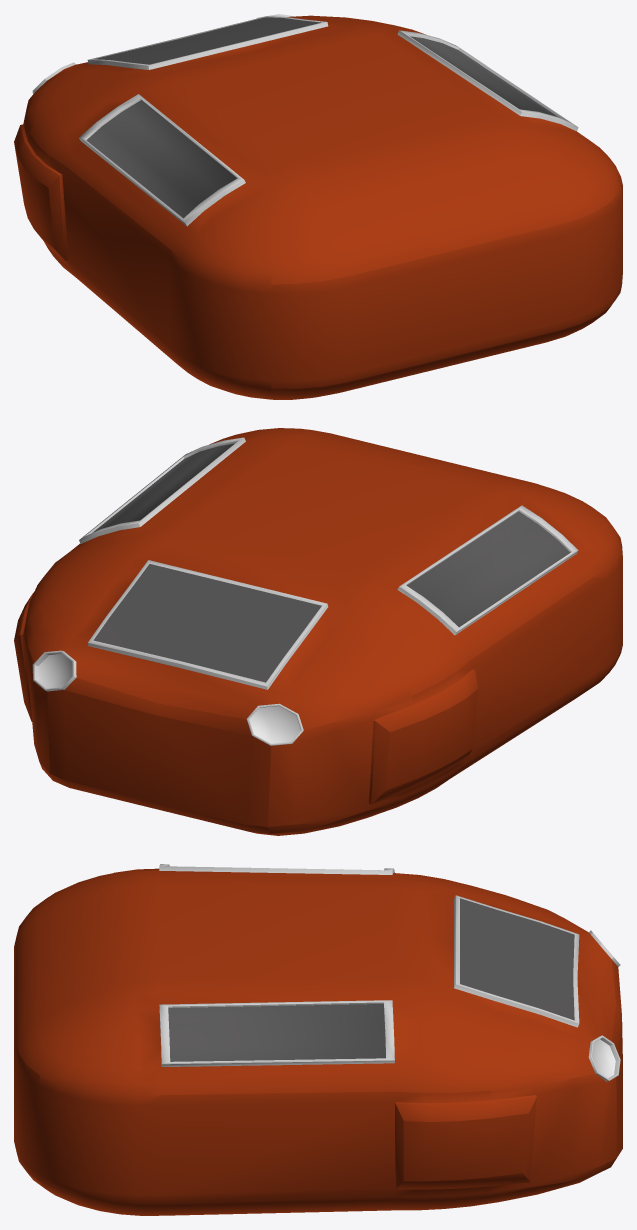
File: Car.fbx
The picture shows the model from 3 angles, top to bottom: view 1: azimuth 30°, elevation 25°; view 2: azimuth 150°, elevation 25°; view 3: azimuth 270°, elevation 25°; orthographic projection. The views are drawn at different scales.
Visible parts, largest first — view 1: Roundcube; view 2: Roundcube; view 3: Roundcube.
Boxes of the visible parts, <box> form: Roundcube: <box>14,14,622,399</box>; Roundcube: <box>14,428,622,835</box>; Roundcube: <box>14,864,622,1215</box>.
Size of the model in its own units: 2.16 by 0.9923 by 2.59.
